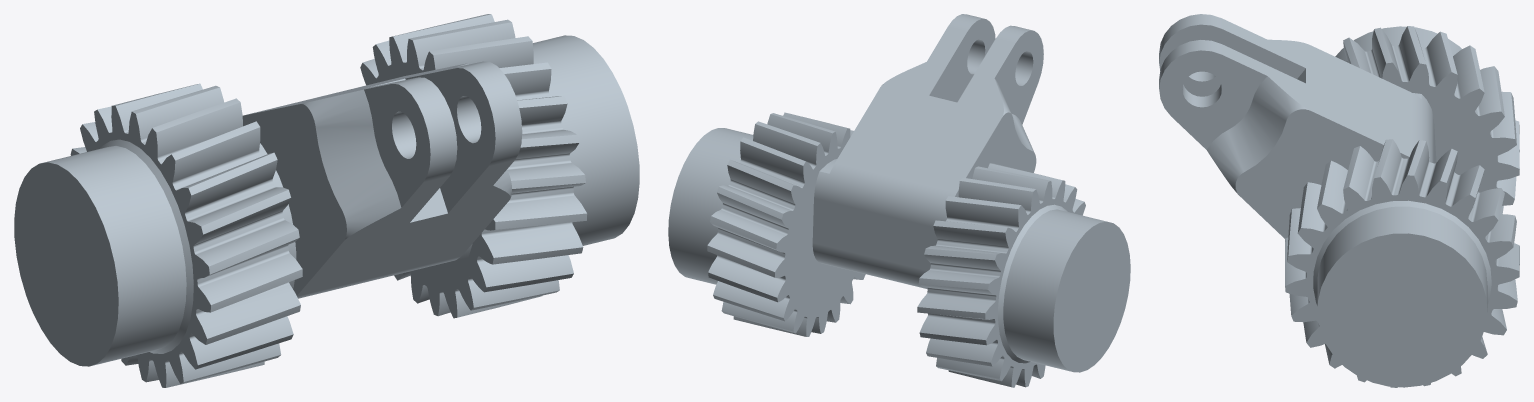
The model's file is Top Mid Linkage.glb.
3 renders of one model, left to right at view 1: azimuth 30°, elevation 25°; view 2: azimuth 150°, elevation 25°; view 3: azimuth 270°, elevation 25°, orthographic. The views are drawn at different scales.
Visible parts, largest first — view 1: Top Mid Linkage; view 2: Top Mid Linkage; view 3: Top Mid Linkage.
Boxes of the visible parts, <box> form: Top Mid Linkage: <box>14,14,639,387</box>; Top Mid Linkage: <box>668,14,1130,387</box>; Top Mid Linkage: <box>1159,14,1519,387</box>.
Bounding box in the file's own units: 0.0568 × 0.036 × 0.0418.
